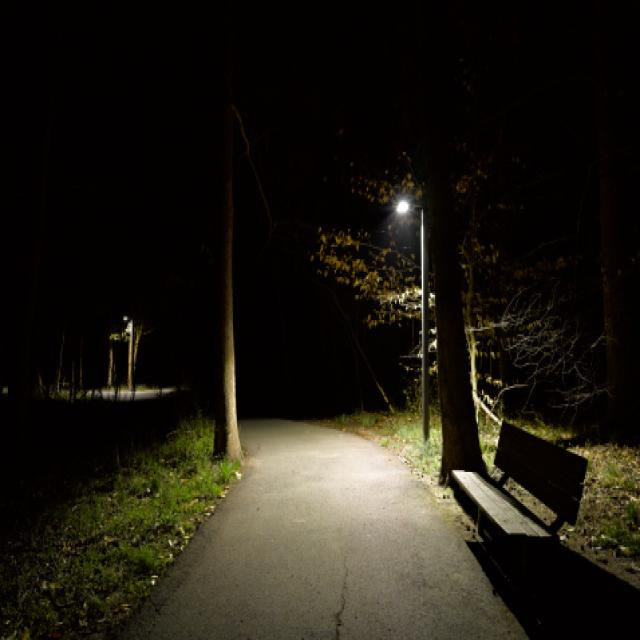chair: (433, 376, 601, 607)
